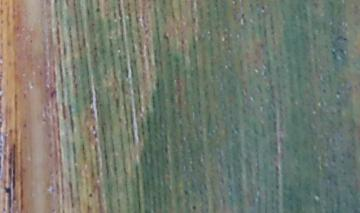tarspot: (4, 185, 12, 202), (153, 77, 161, 90), (93, 5, 102, 14), (87, 191, 94, 198), (182, 189, 189, 196), (191, 205, 198, 211)
